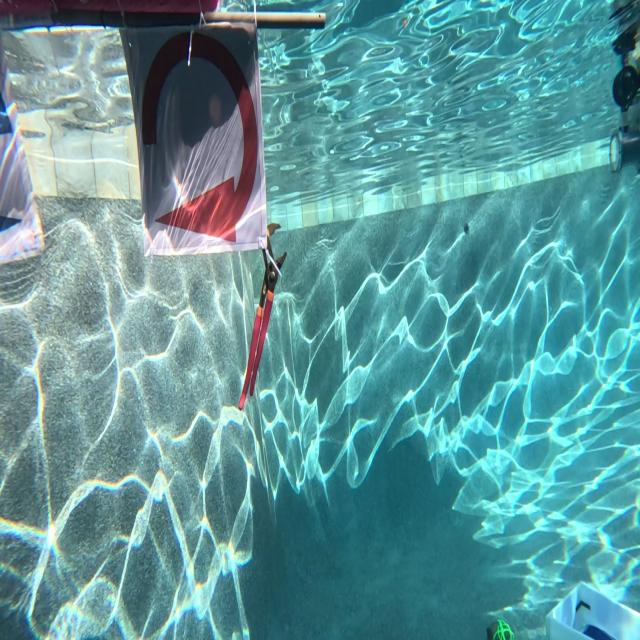blue_side: (0, 81, 44, 272)
red_side: (121, 31, 262, 258)
